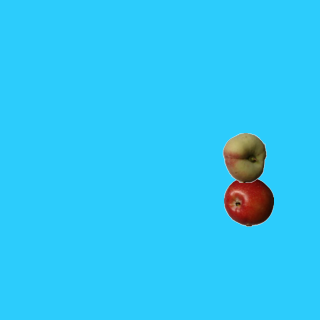Apple Braeburn: (223, 176, 273, 226)
Peach Flat: (219, 132, 269, 182)
